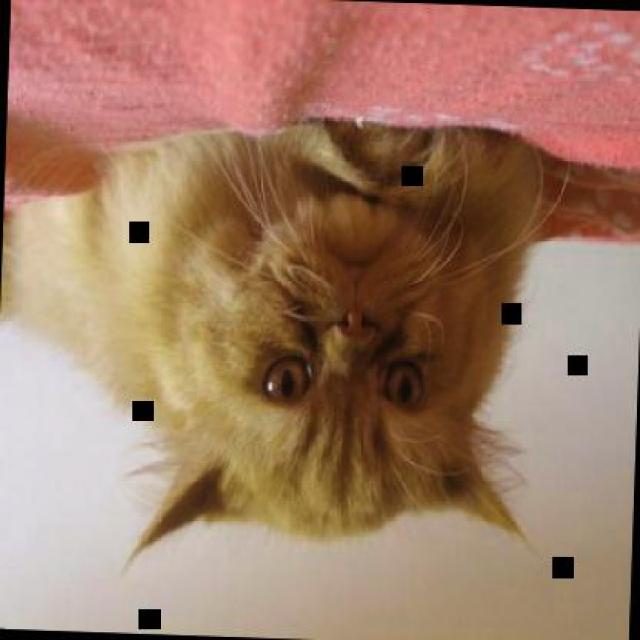cat: (0, 110, 543, 576)
